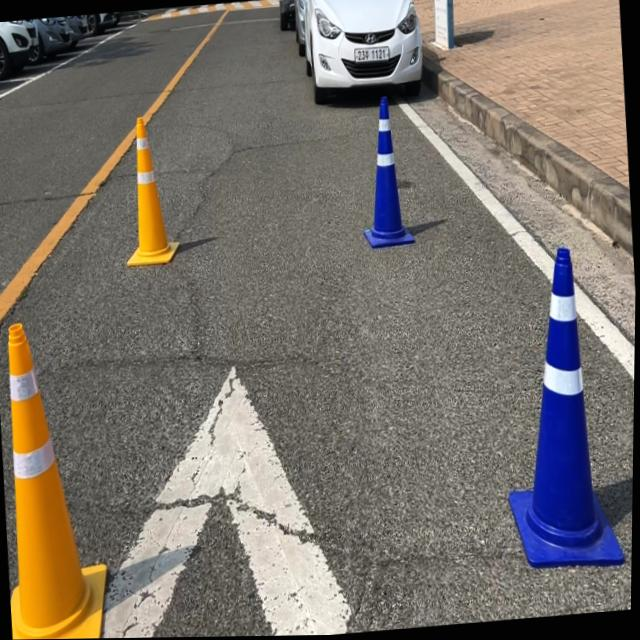b_rub: (511, 248, 627, 569), (364, 95, 415, 248)
y_rub: (8, 322, 107, 640), (127, 116, 180, 266)
